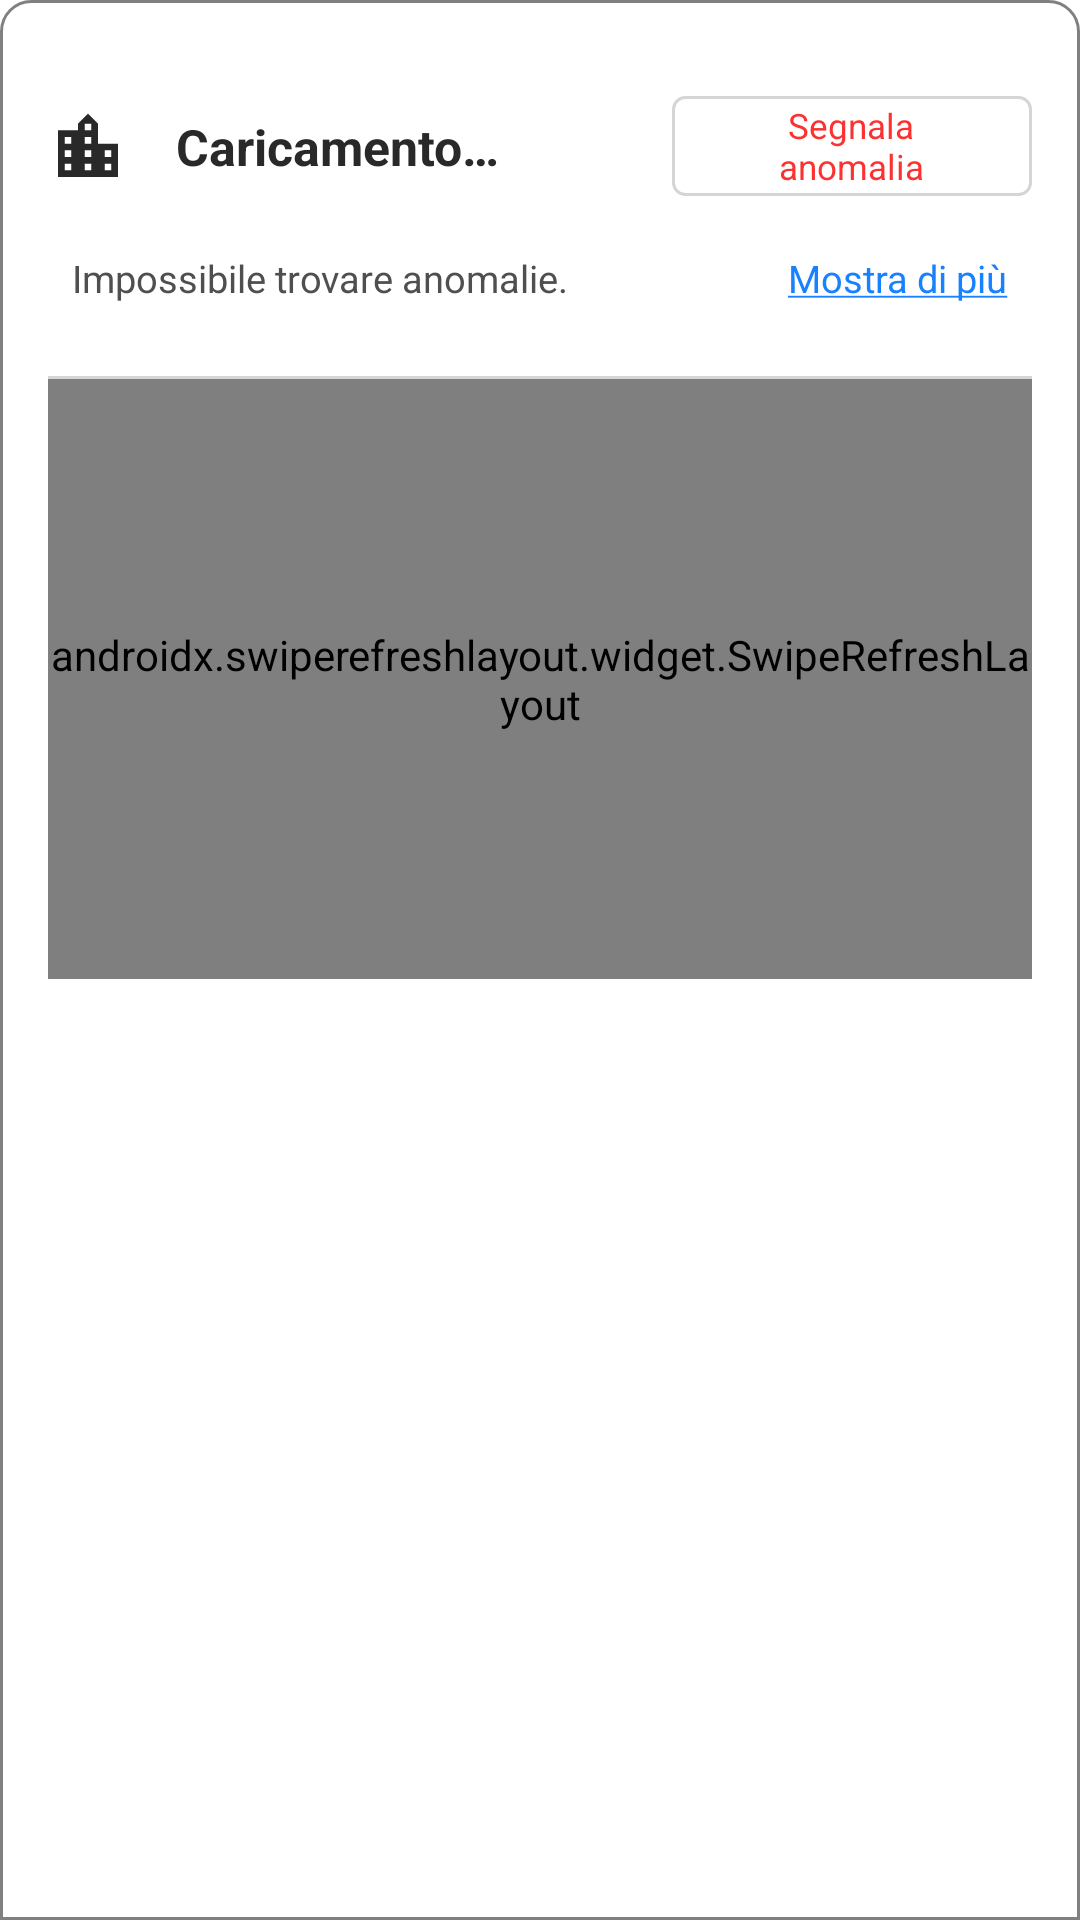

Where to tap for icons on this 1080w x 1920h app screen, as (x=x, y=y):
location city: (x=88, y=145)
